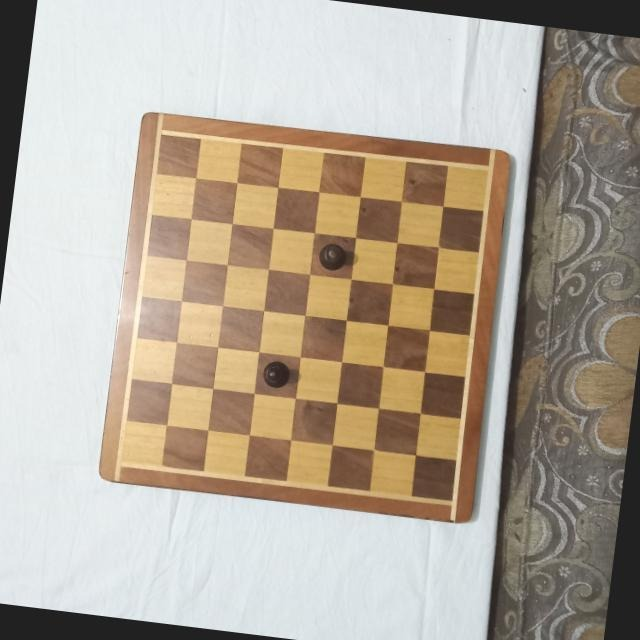black-pawn: (259, 357, 293, 391), (315, 240, 347, 271)
